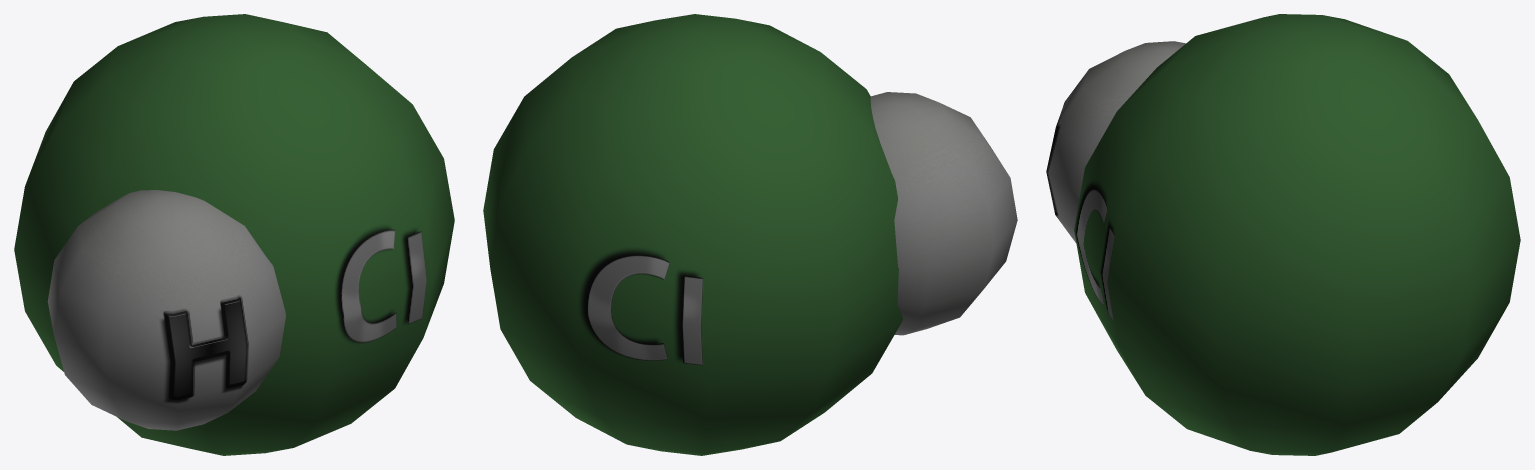
The model's file is Hydrochloric_Acid.gltf.
3 renders of one model, left to right at view 1: azimuth 30°, elevation 25°; view 2: azimuth 150°, elevation 25°; view 3: azimuth 270°, elevation 25°, orthographic.
Parts seen in each view (by area): view 1: Hydrochloric_Acid1; view 2: Hydrochloric_Acid1; view 3: Hydrochloric_Acid1.
Boxes of the visible parts, left/top/right/bottom form: Hydrochloric_Acid1: left=14, top=14, right=454, bottom=455; Hydrochloric_Acid1: left=483, top=14, right=1017, bottom=455; Hydrochloric_Acid1: left=1046, top=14, right=1520, bottom=455.
Bounding box in the file's own units: 2.01 × 1.83 × 1.94.
2 materials, 2 textured.
